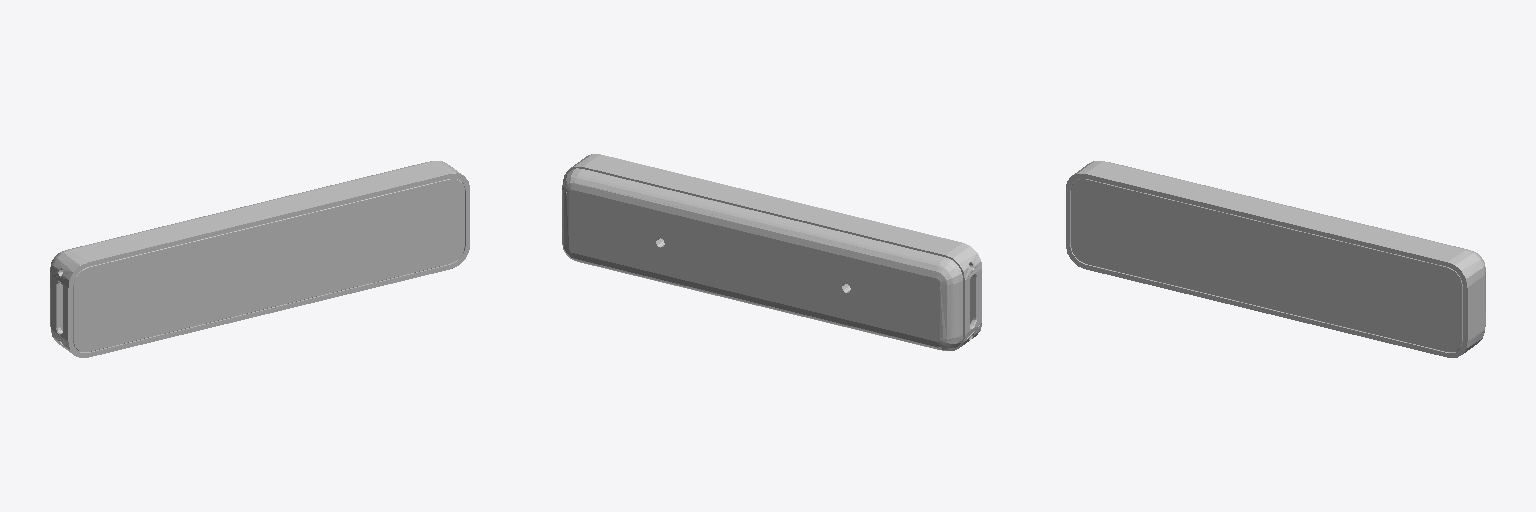
The picture shows the model from 3 angles: view 1: azimuth 30°, elevation 25°; view 2: azimuth 150°, elevation 25°; view 3: azimuth 330°, elevation 25°; orthographic projection.
Visible parts, largest first — view 1: t265_simplified; view 2: t265_simplified; view 3: t265_simplified.
Part boxes in pixels (bbox=[...]): t265_simplified: bbox=[50, 161, 469, 357]; t265_simplified: bbox=[562, 154, 981, 350]; t265_simplified: bbox=[1066, 161, 1485, 357].
Bounding box in the file's own units: 0.108 × 0.0245 × 0.0125.